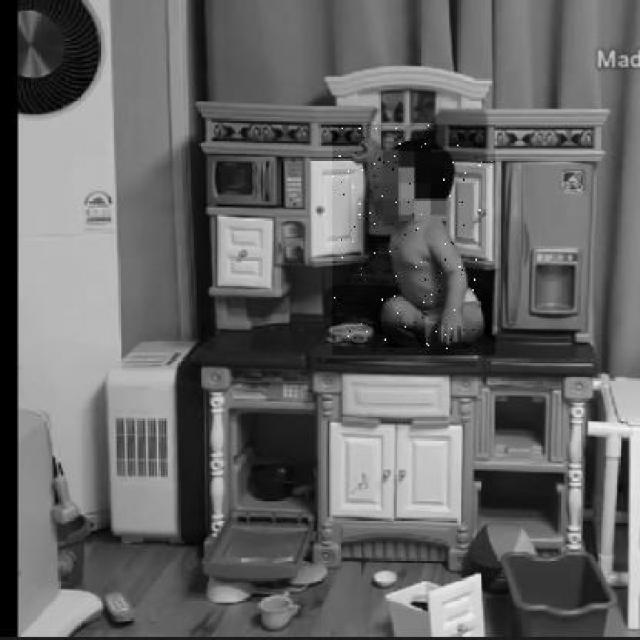child: (333, 125, 496, 356)
